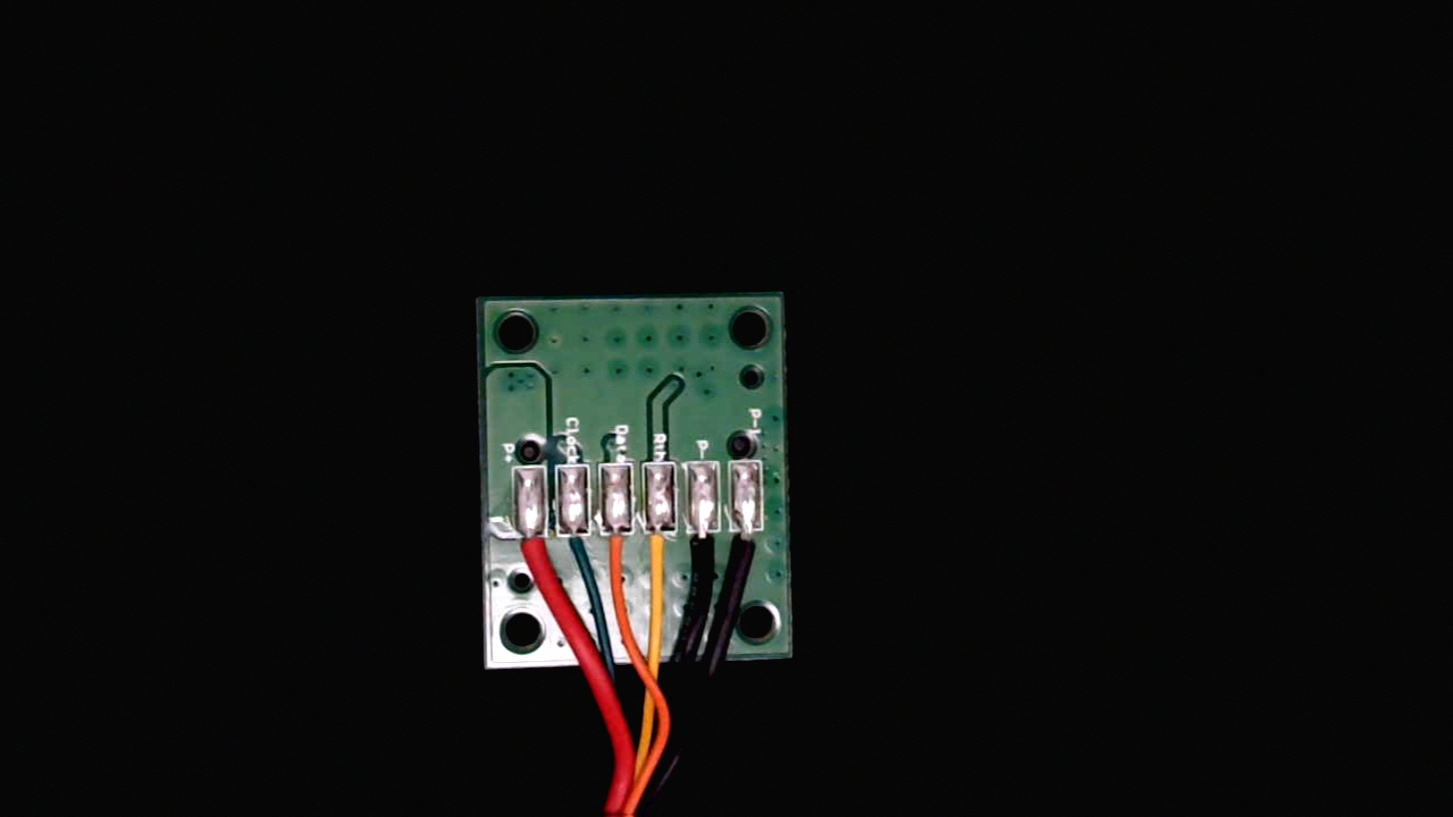Black: (690, 517, 729, 601)
Black1: (738, 515, 777, 592)
Green: (561, 516, 596, 584)
Orange: (605, 515, 642, 592)
Red: (517, 519, 556, 600)
Yellow: (646, 518, 686, 604)
